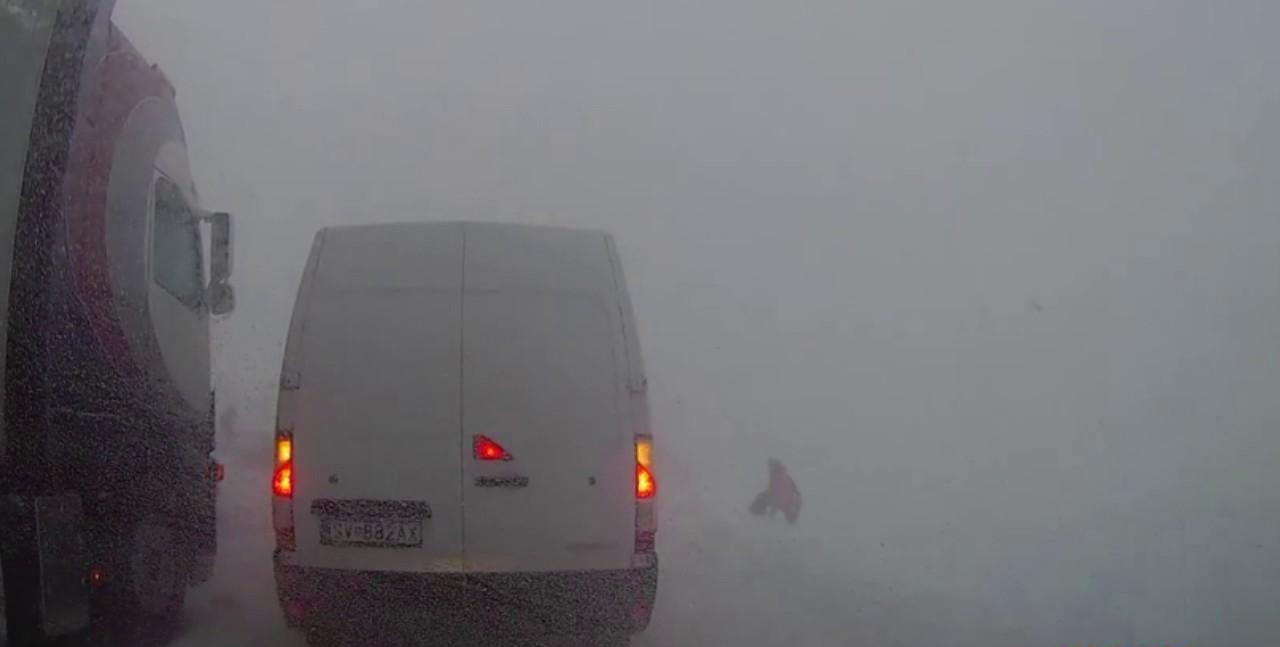car: (279, 218, 656, 642)
truck: (0, 24, 241, 641)
